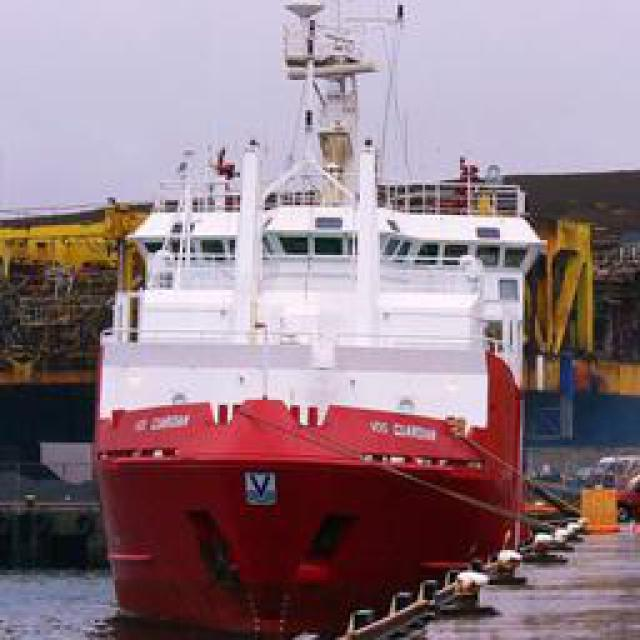Ship: (90, 1, 548, 629)
